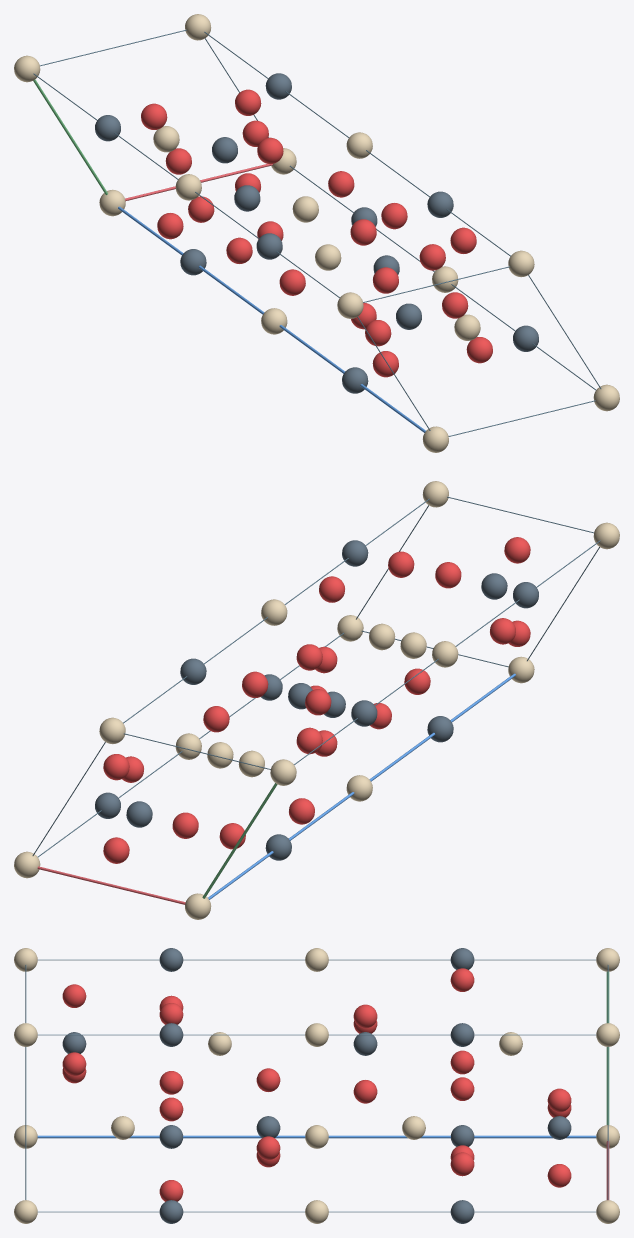
File: chat-rhodochrosite.glb
3 renders of one model, top to bottom at view 1: azimuth 30°, elevation 25°; view 2: azimuth 150°, elevation 25°; view 3: azimuth 270°, elevation 25°, orthographic. The views are drawn at different scales.
Parts seen in each view (by area): view 1: Ô mạng và các trục a, b, c; view 2: Ô mạng và các trục a, b, c; view 3: O · O · 1 (×16), Mn · Mn · 1 (×16), Ô mạng và các trục a, b, c, C · C · 1 (×12).
Part boxes in pixels (x1=…): Ô mạng và các trục a, b, c: x1=33, y1=29, x2=601, y2=436; Ô mạng và các trục a, b, c: x1=32, y1=496, x2=600, y2=904; O · O · 1 (×16): x1=62, y1=968, x2=571, y2=1201; Mn · Mn · 1 (×16): x1=14, y1=948, x2=619, y2=1223; Ô mạng và các trục a, b, c: x1=25, y1=959, x2=609, y2=1212; C · C · 1 (×12): x1=62, y1=948, x2=571, y2=1223.
Bounding box in the file's own units: 7.8 × 4.77 × 16.28.
